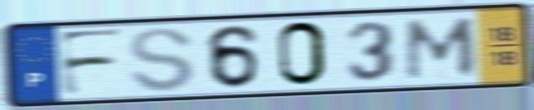0: (274, 19, 329, 89)
3: (342, 18, 399, 84)
6: (203, 23, 261, 91)
F: (55, 26, 128, 99)
M: (402, 16, 480, 82)
S: (126, 25, 197, 95)
